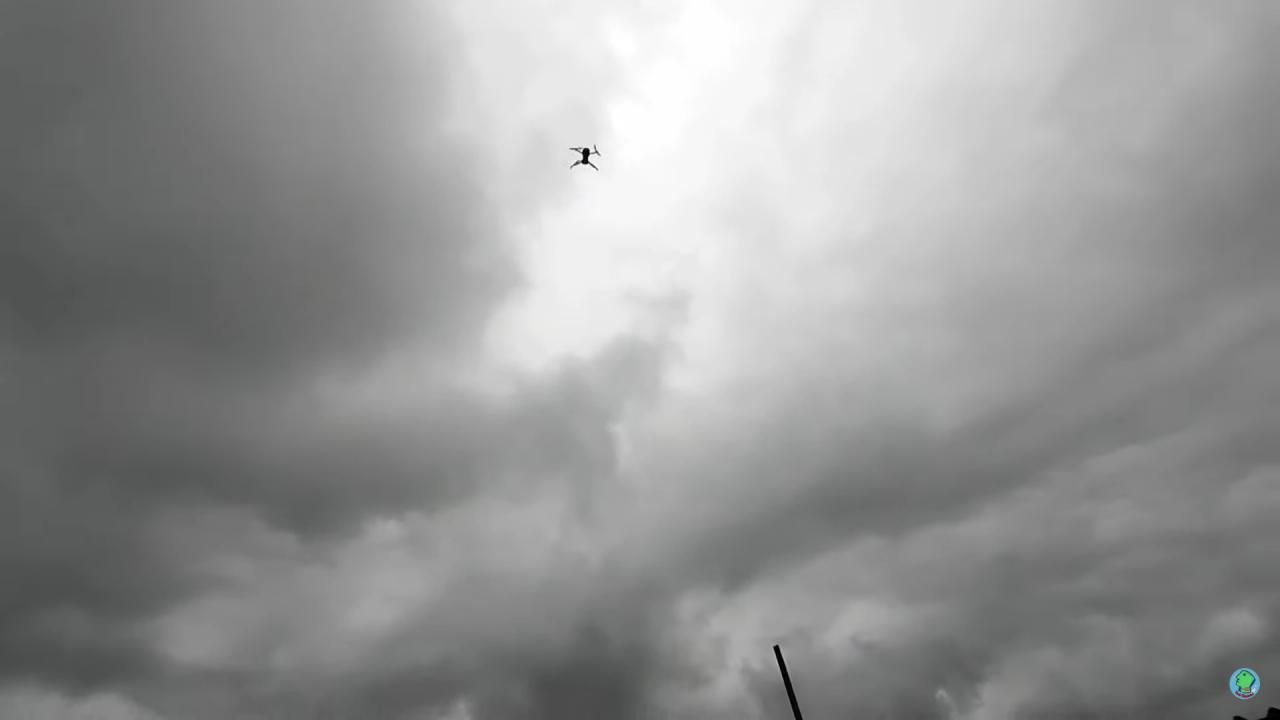Drone: (556, 137, 612, 178)
